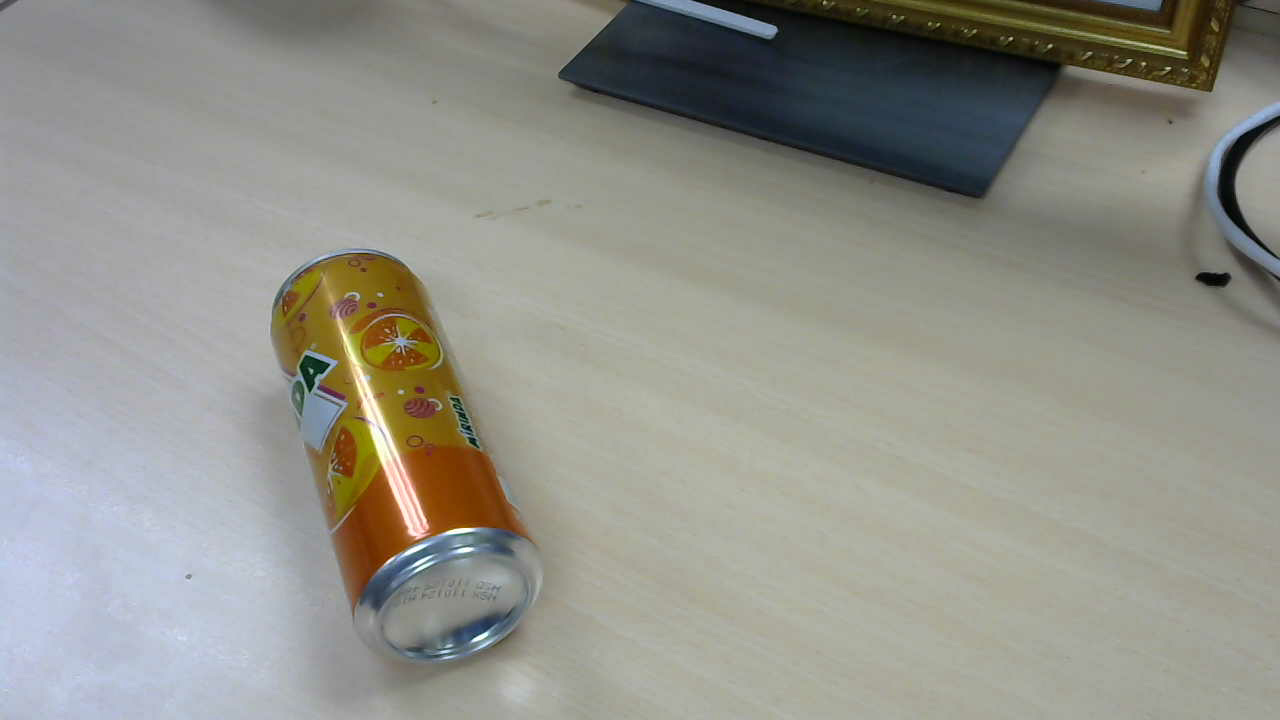Mirinda: (276, 256, 551, 669)
